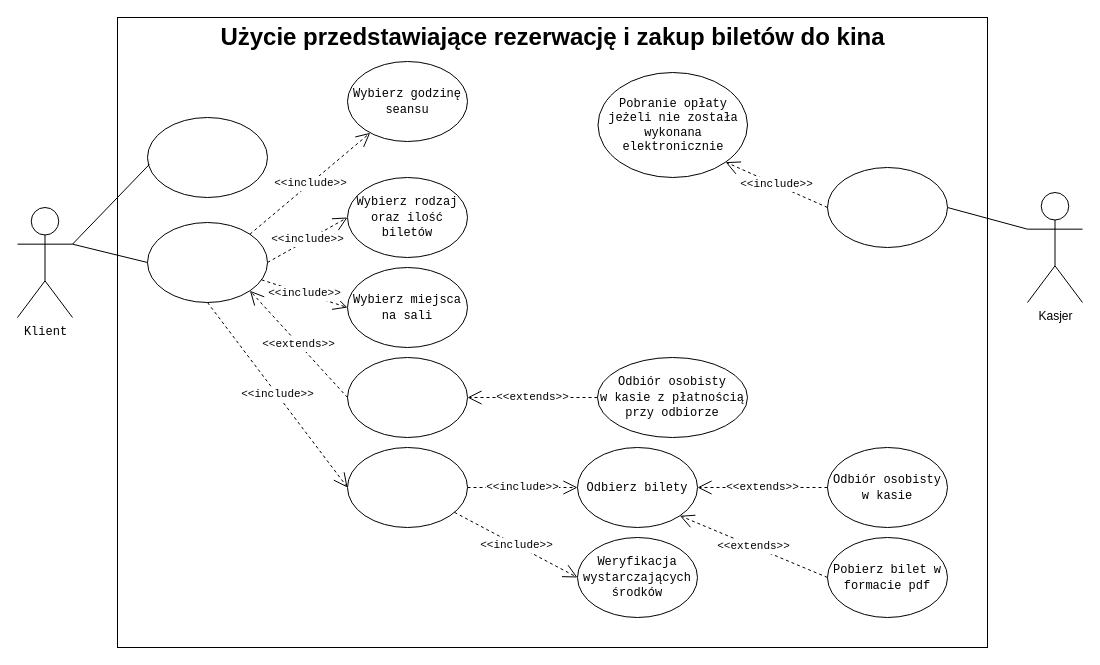
Image size: 1100x665. Some labels were removed from this diagram. Each missing label, with the centre of its shape:
"Kup bilety" belongs at point (407, 487).
"Odbiór rezerwacji i wydruk biletów" belongs at point (887, 207).
"Wybierz Film" belongs at point (207, 262).
"Zaloguj się" belongs at point (207, 157).
"Zarezerwuj bilety" belongs at point (407, 397).
